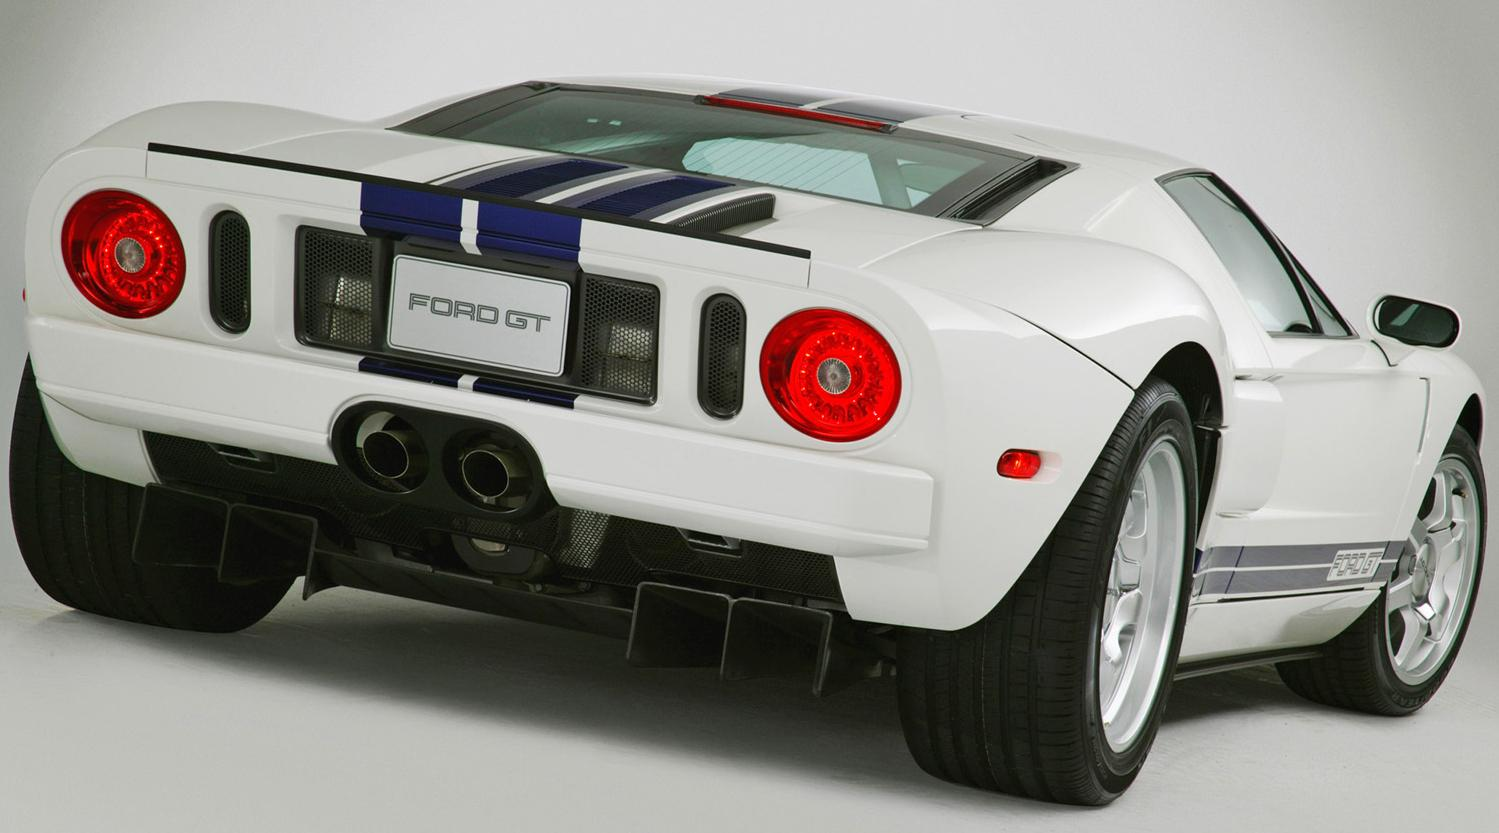back_view: (79, 127, 961, 700)
backlight: (723, 272, 942, 498)
side_glass: (1116, 142, 1428, 368)
